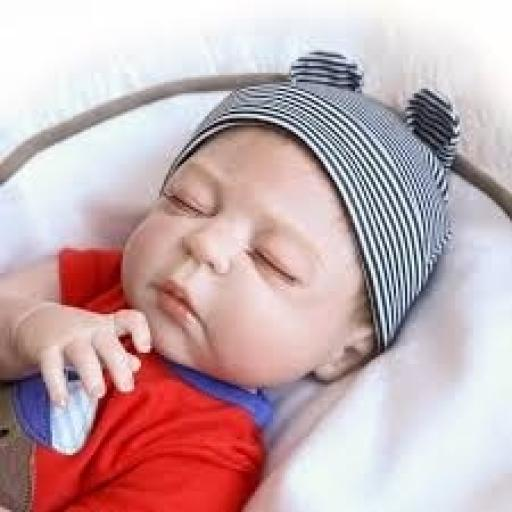sleeping: (0, 46, 464, 510)
